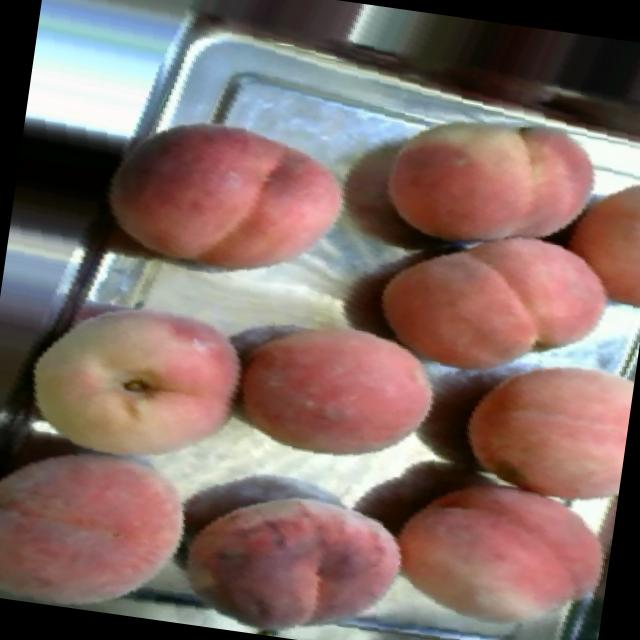Fruit: (86, 90, 369, 308), (5, 271, 274, 485), (210, 281, 462, 489), (151, 460, 426, 640), (366, 85, 619, 268), (355, 227, 631, 392), (0, 430, 222, 626), (371, 466, 617, 640), (446, 325, 637, 503), (543, 151, 640, 318)
